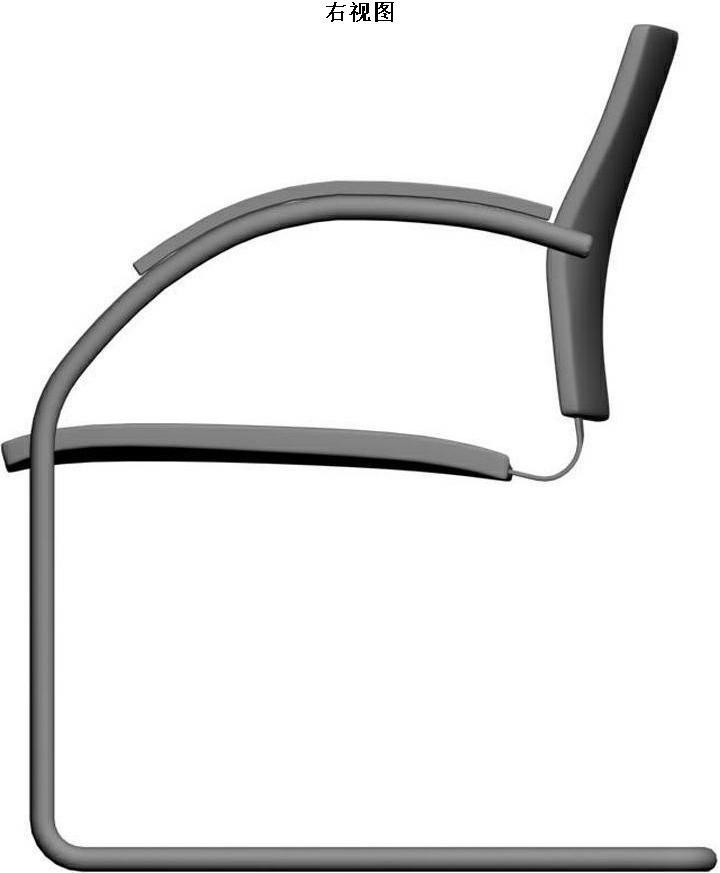obstacle: (3, 0, 716, 847)
